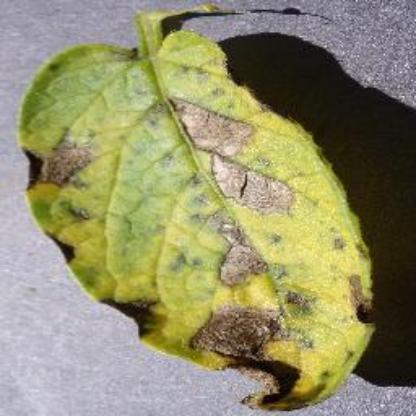Early-Blight: (20, 25, 386, 409)
